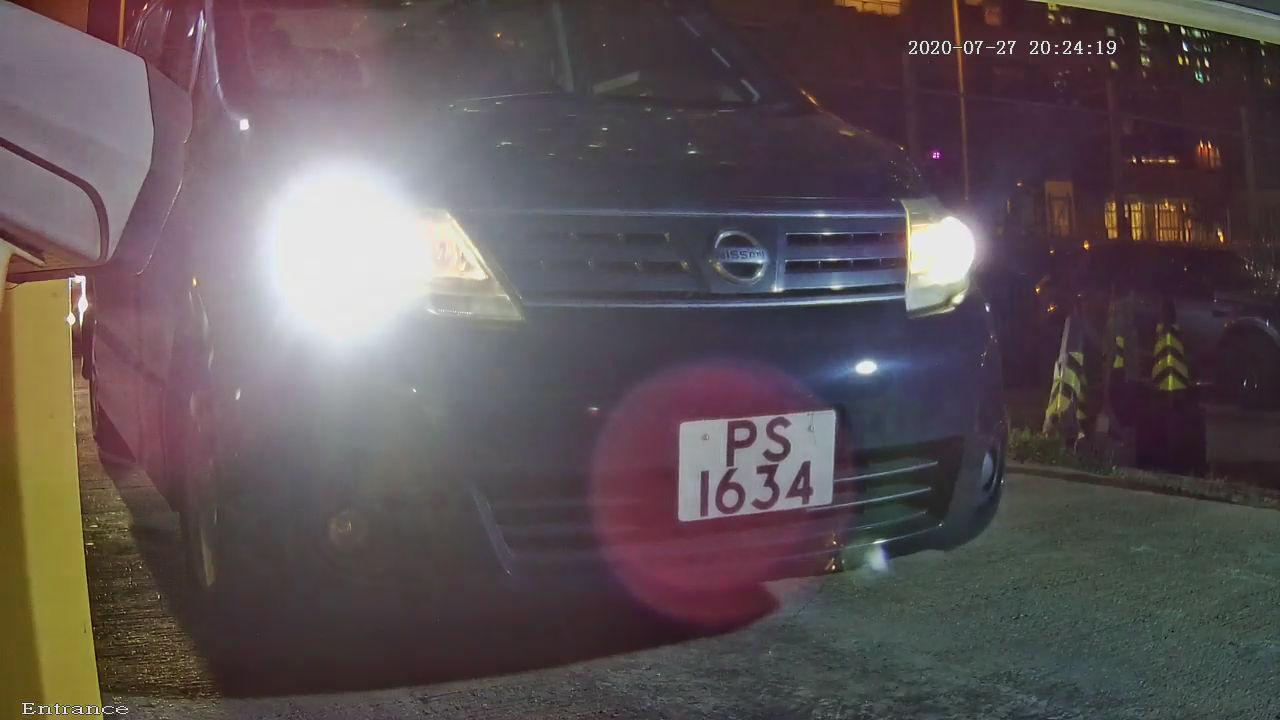privatecar: (132, 1, 1081, 679)
